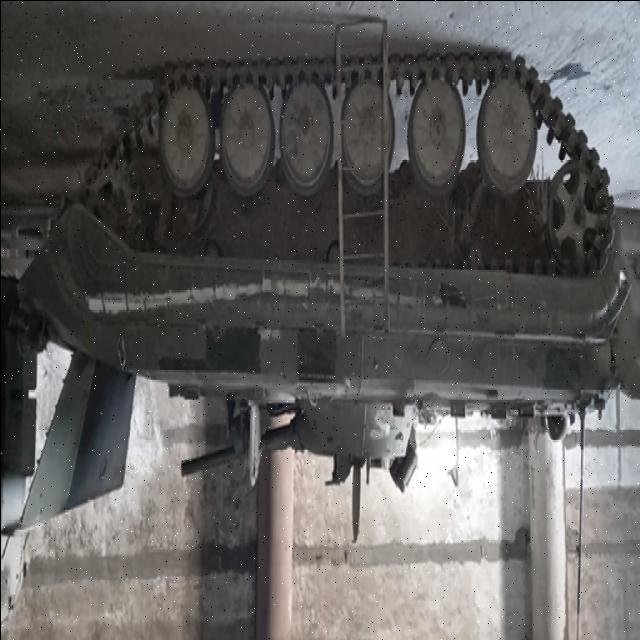APC-IFV: (12, 42, 626, 534)
